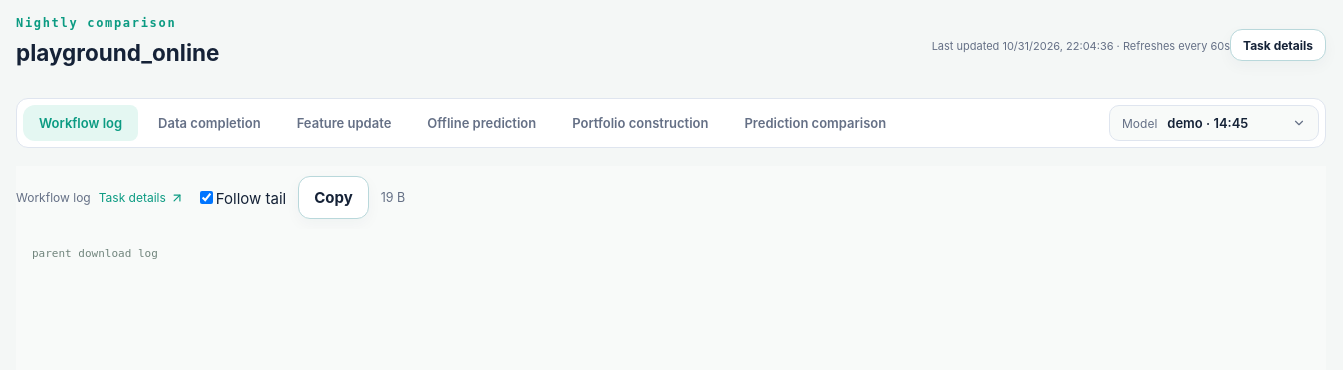
Scenario: settles unfinished nightly model summaries after download failure and cancellation
This screenshot has width=1343, height=370.
Click the tab "Feature update" at {"x": 344, "y": 123}, box [281, 105, 407, 141]
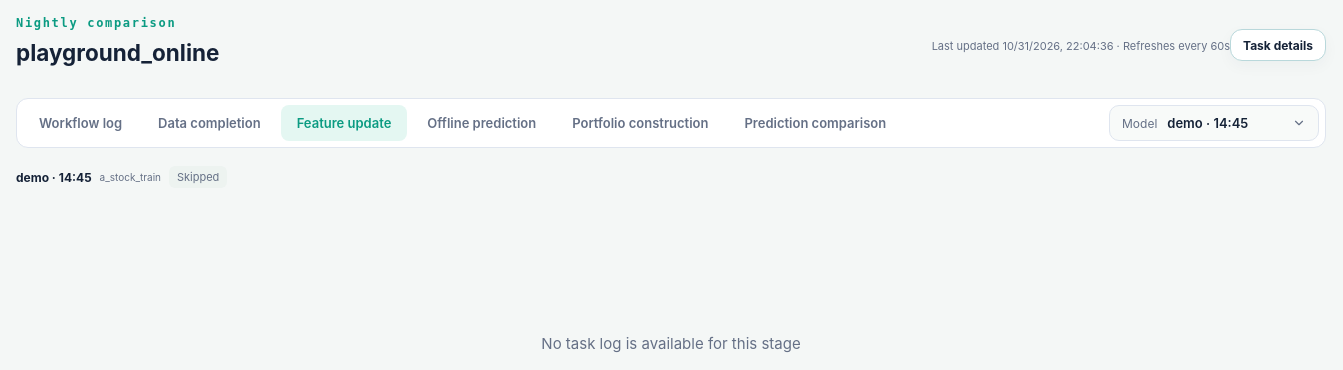
expect the element with class "compare-active-model" shows "Skipped": met, box [177, 170, 219, 184]
